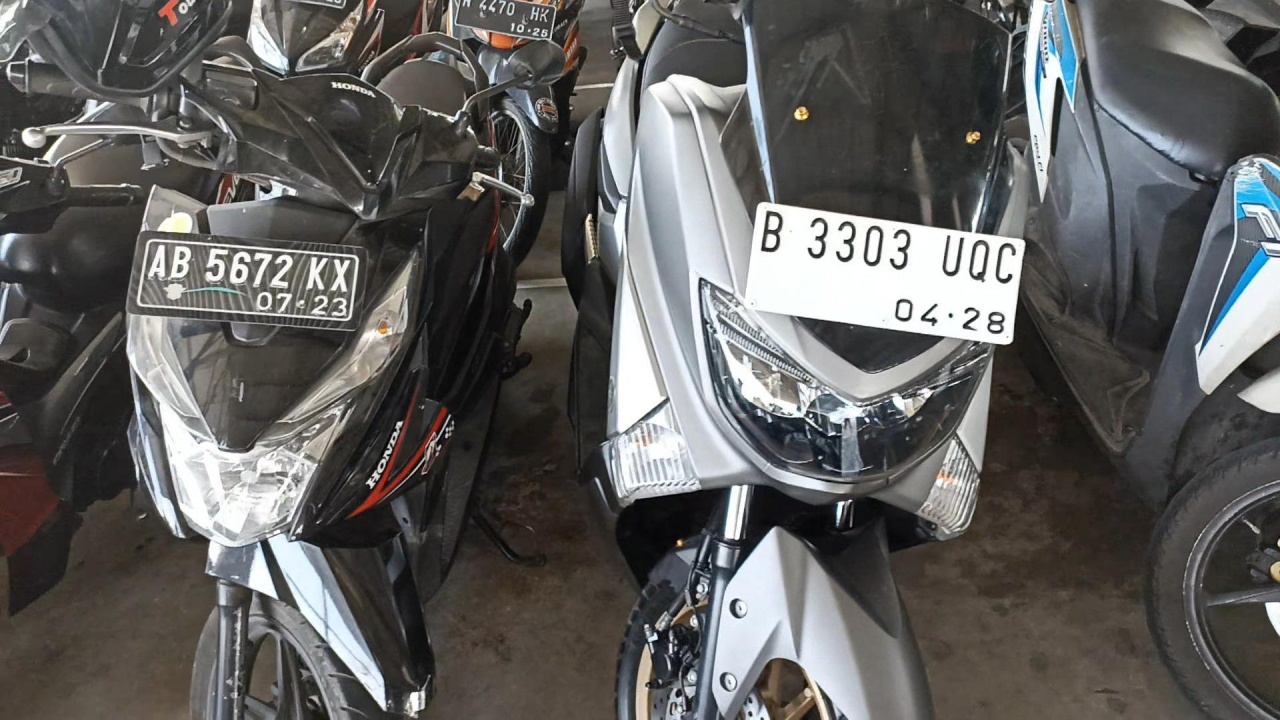plate: (744, 199, 1027, 345), (134, 237, 361, 323)
